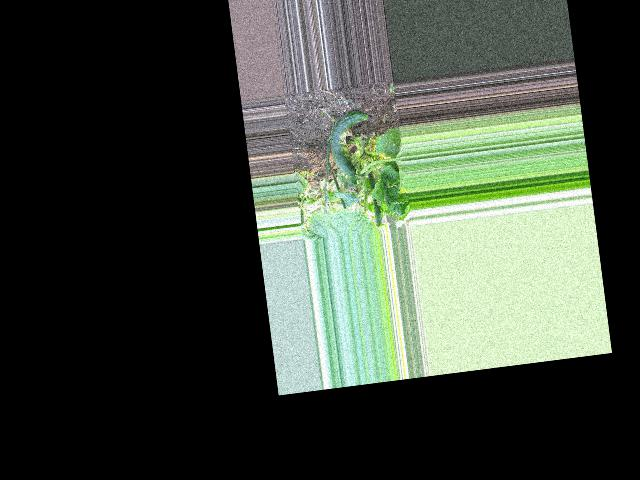cucumber: (326, 109, 375, 179)
